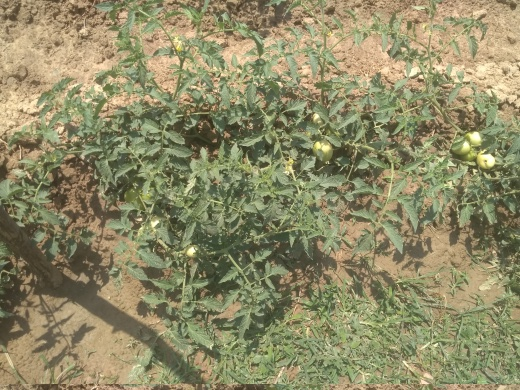tomato: (313, 137, 349, 171), (452, 133, 483, 158), (183, 237, 200, 261), (476, 148, 494, 170), (310, 112, 328, 125)
tomato plant: (239, 98, 507, 254), (142, 88, 335, 272)
